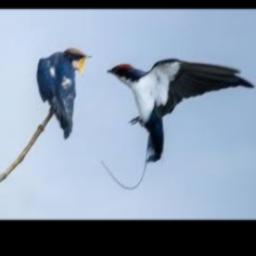Swallow: (106, 58, 254, 162), (37, 47, 91, 138)
